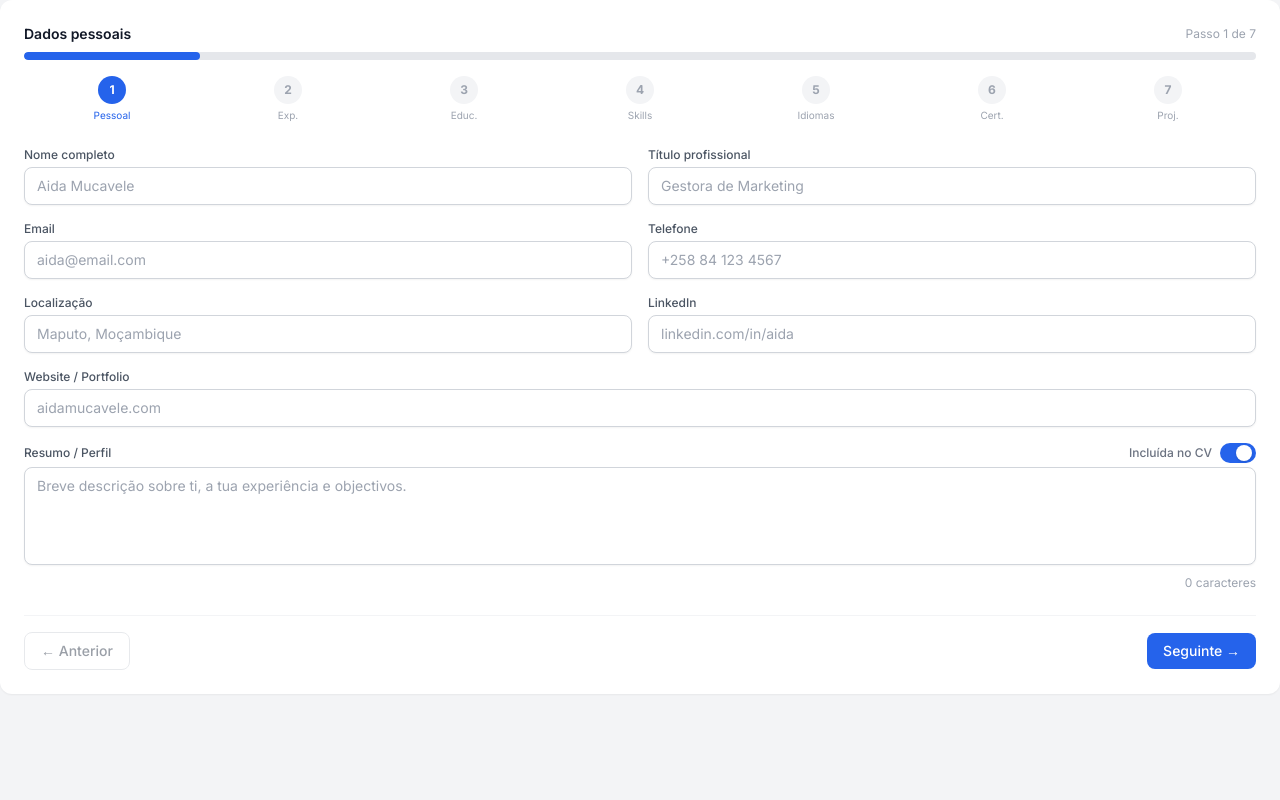
Test: FormWizard › recua para o passo anterior
Click the button "Seguinte →": {"x": 1202, "y": 651} left=1147, top=633, right=1256, bottom=669
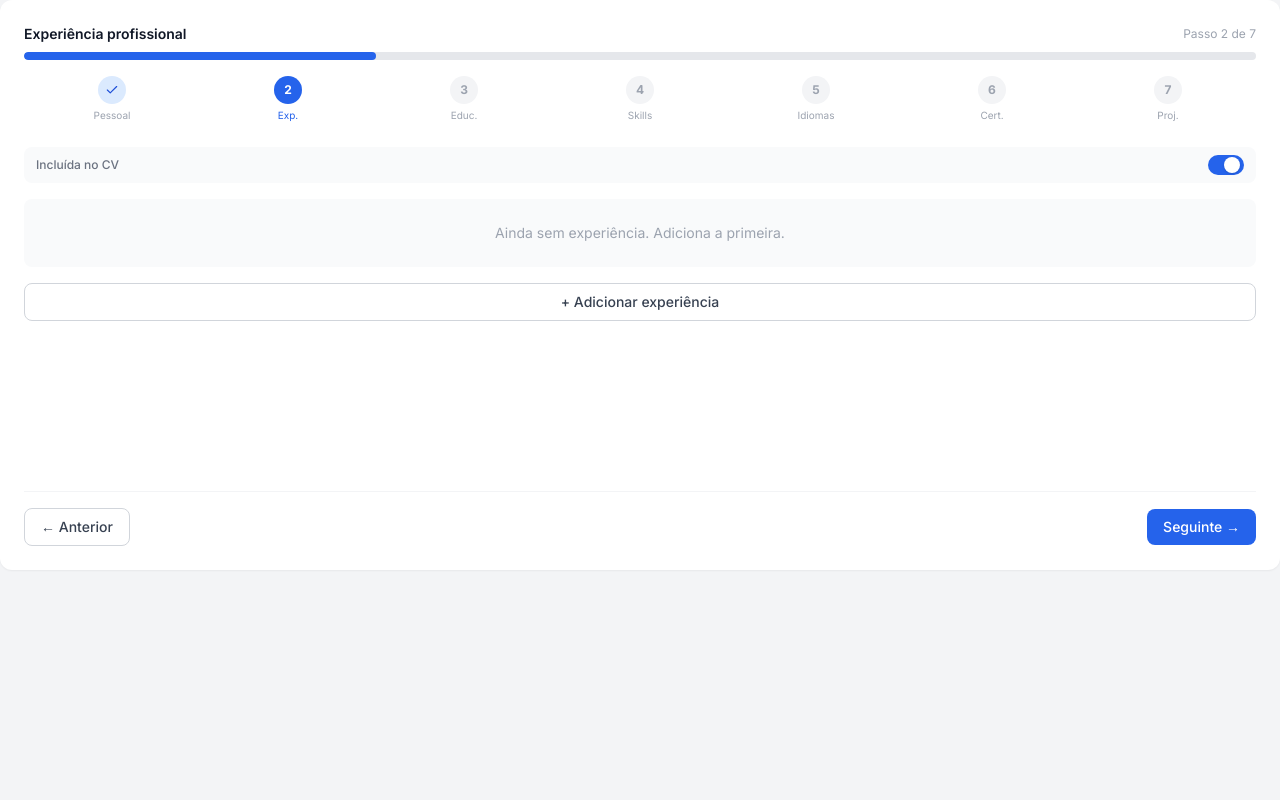
Click the button "← Anterior": {"x": 77, "y": 527} left=24, top=508, right=130, bottom=546
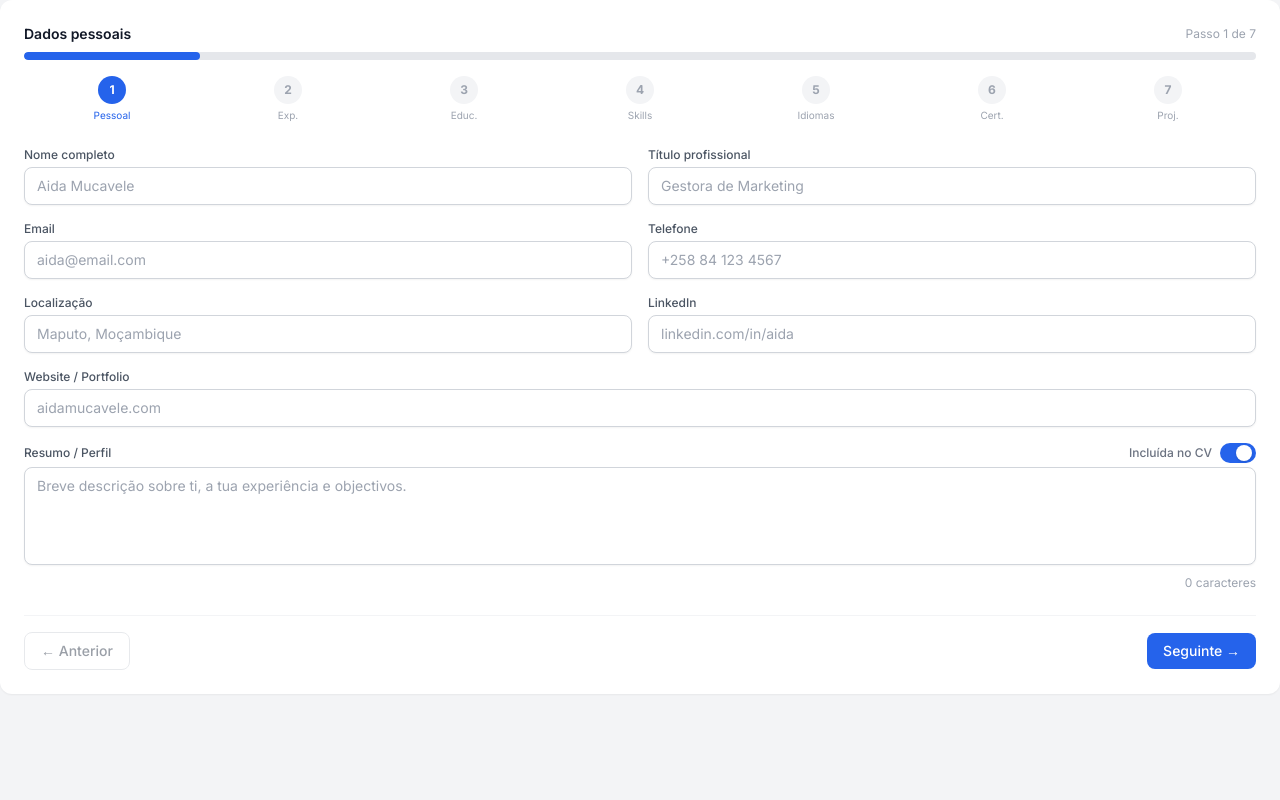
Check: the text "Passo 1 de 7" is shown, box left=1186, top=26, right=1256, bottom=42
